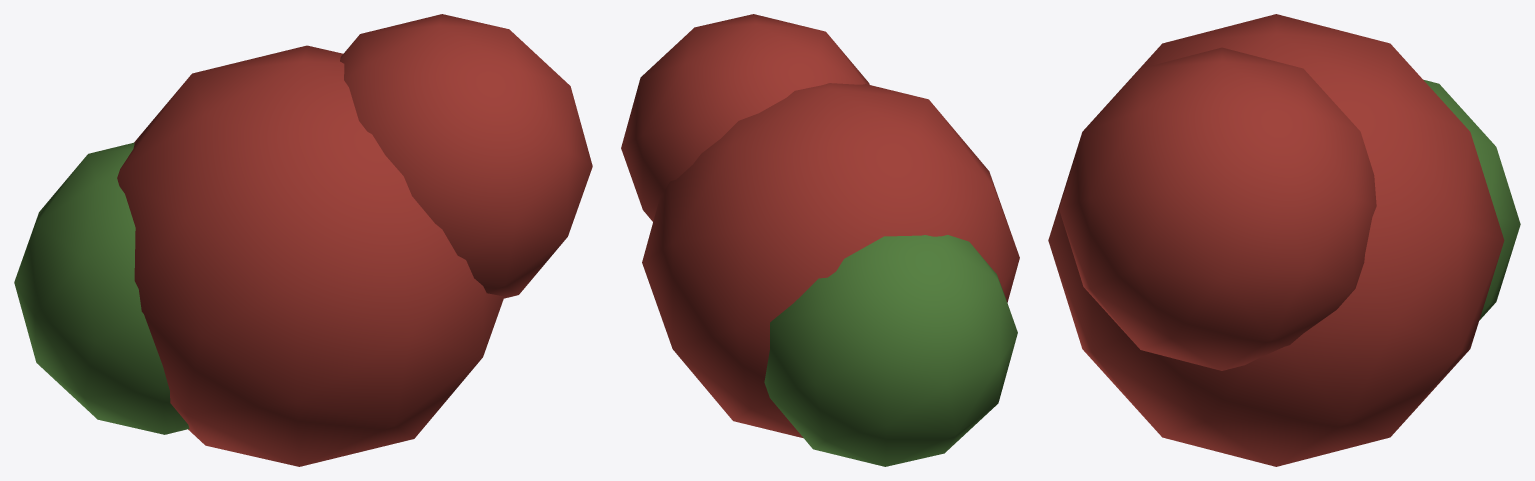
File: shrub-red.glb
The picture shows the model from 3 angles, left to right: view 1: azimuth 30°, elevation 25°; view 2: azimuth 150°, elevation 25°; view 3: azimuth 270°, elevation 25°; orthographic projection. The views are drawn at different scales.
Parts seen in each view (by area): view 1: shrub-red; view 2: shrub-red; view 3: shrub-red.
Boxes of the visible parts, x1,y1,x2,y2 form: shrub-red: (14,14,592,466); shrub-red: (621,14,1019,466); shrub-red: (1048,14,1520,466).
Bounding box in the file's own units: 1.07 × 0.9 × 0.87.
